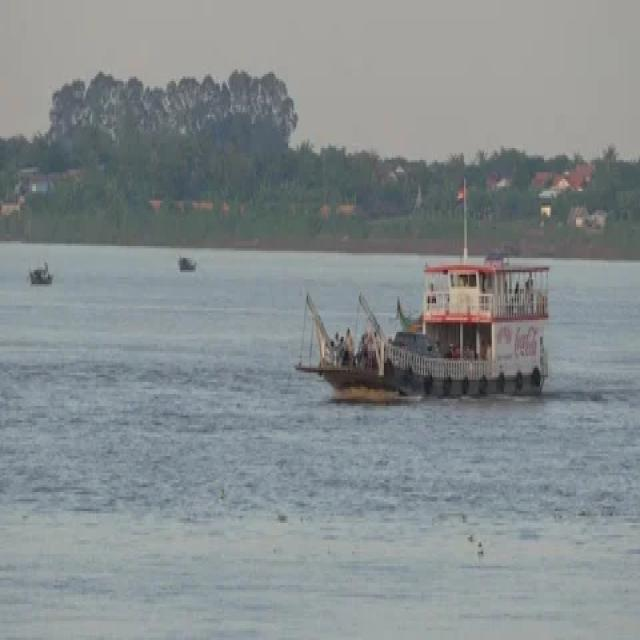houseboat: (300, 218, 567, 425)
